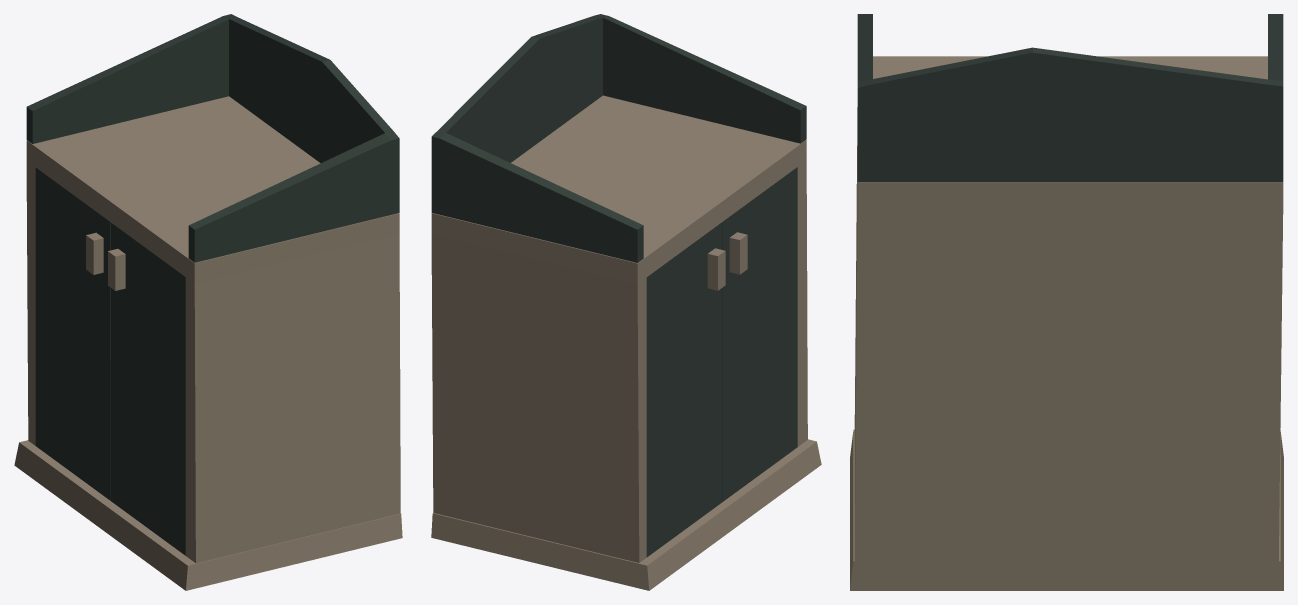
File: fork small pedestal static.fbx
3 views of the same model, side by side, from view 1: azimuth 30°, elevation 25°; view 2: azimuth 150°, elevation 25°; view 3: azimuth 270°, elevation 25° (orthographic). The views are drawn at different scales.
Parts seen in each view (by area): view 1: small pedestal fork room, small pedestal fork room door left, small pedestal fork room door right; view 2: small pedestal fork room, small pedestal fork room door right, small pedestal fork room door left; view 3: small pedestal fork room.
Boxes of the visible parts, x1,y1,x2,y2 form: small pedestal fork room: (14,14,402,590); small pedestal fork room door left: (108,223,185,555); small pedestal fork room door right: (35,167,110,500); small pedestal fork room: (431,14,821,590); small pedestal fork room door right: (646,222,725,557); small pedestal fork room door left: (722,167,797,502); small pedestal fork room: (850,14,1283,590).
Bounding box in the file's own units: 0.6117 × 1.15 × 0.8381.
